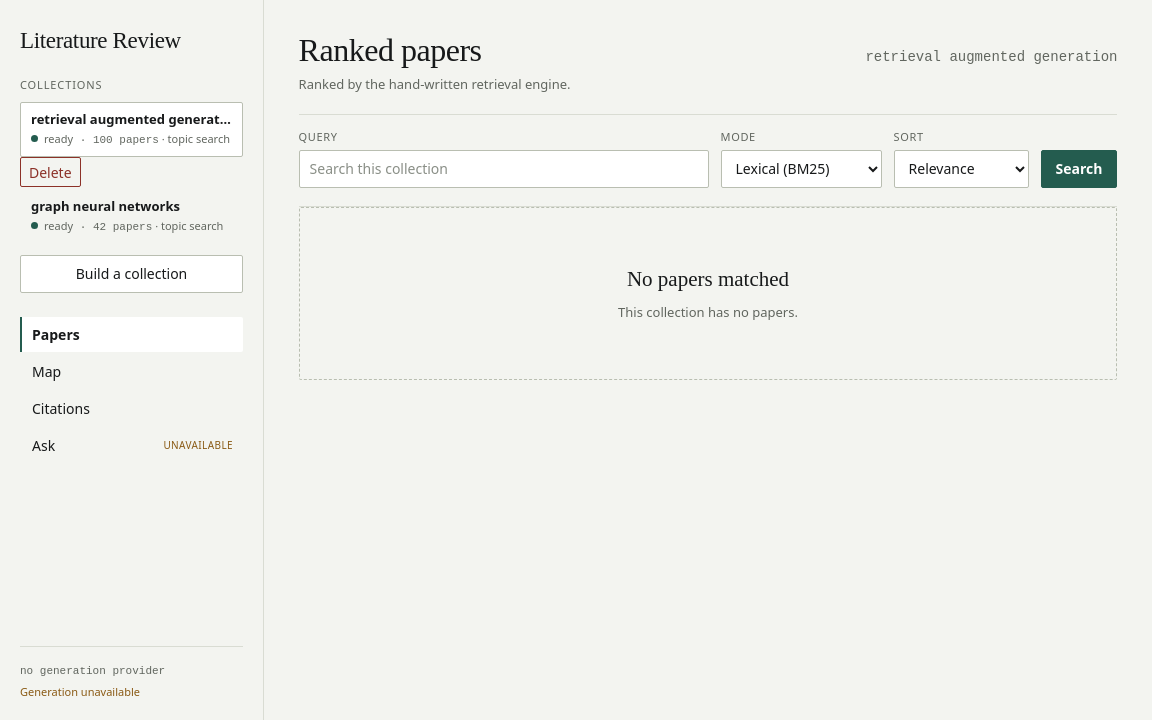
Test: deleting a collection › deletes after confirmation, refreshes the rail and selects another collection
What coordinates should you click on to do the following:
click the button with aria-label "Delete the selected collection"
I would click on:
 (50, 172)
Its box is [20,157,81,187].
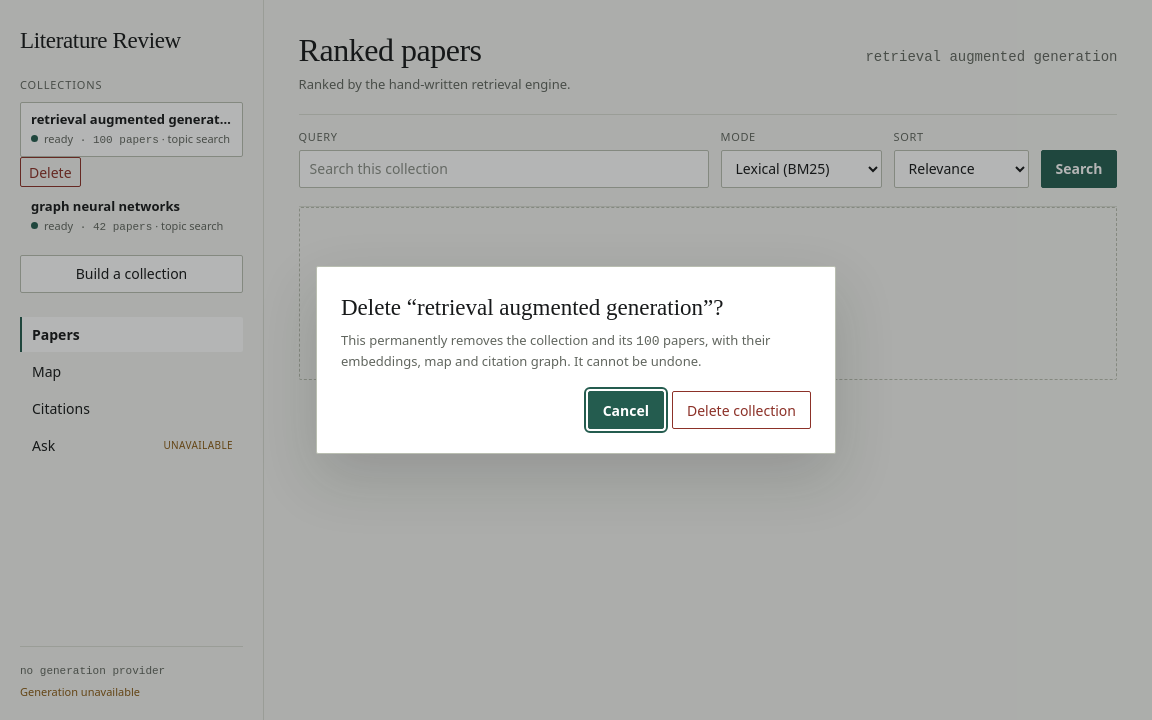
What coordinates should you click on to do the following:
click the button "Delete collection"
I would click on:
 (742, 410)
Its box is [672,391,811,429].
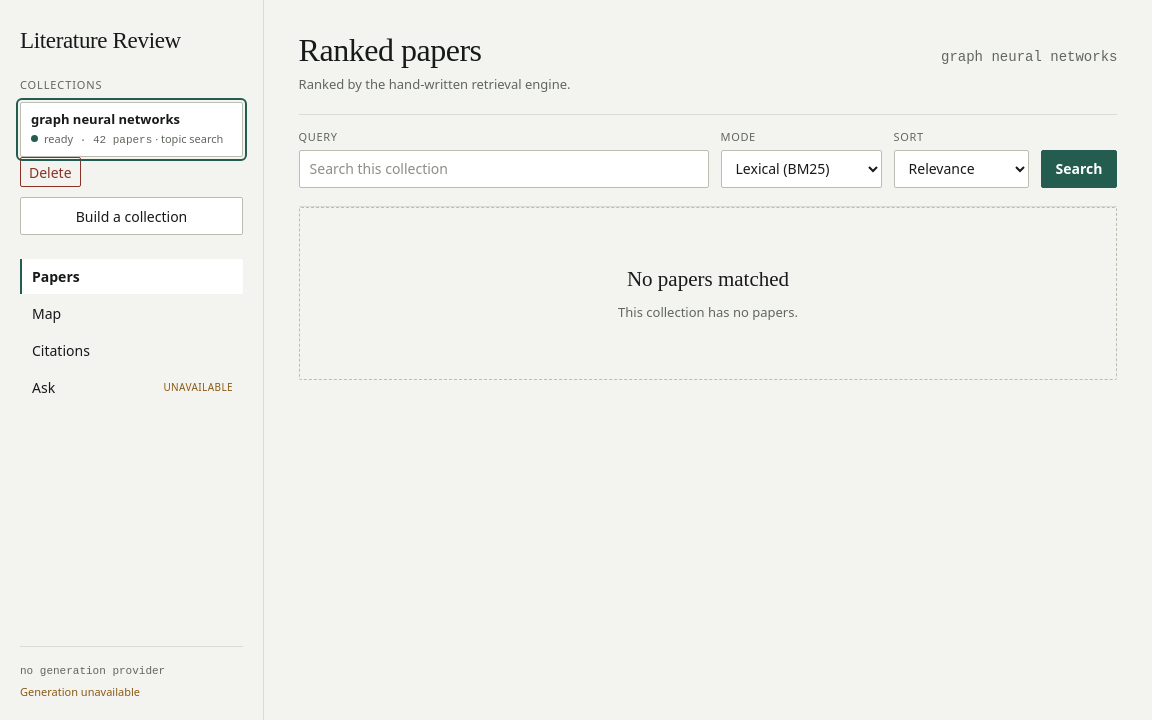
Expected: the dialog is gone
Expected: the button "retrieval augmented generation" is gone
